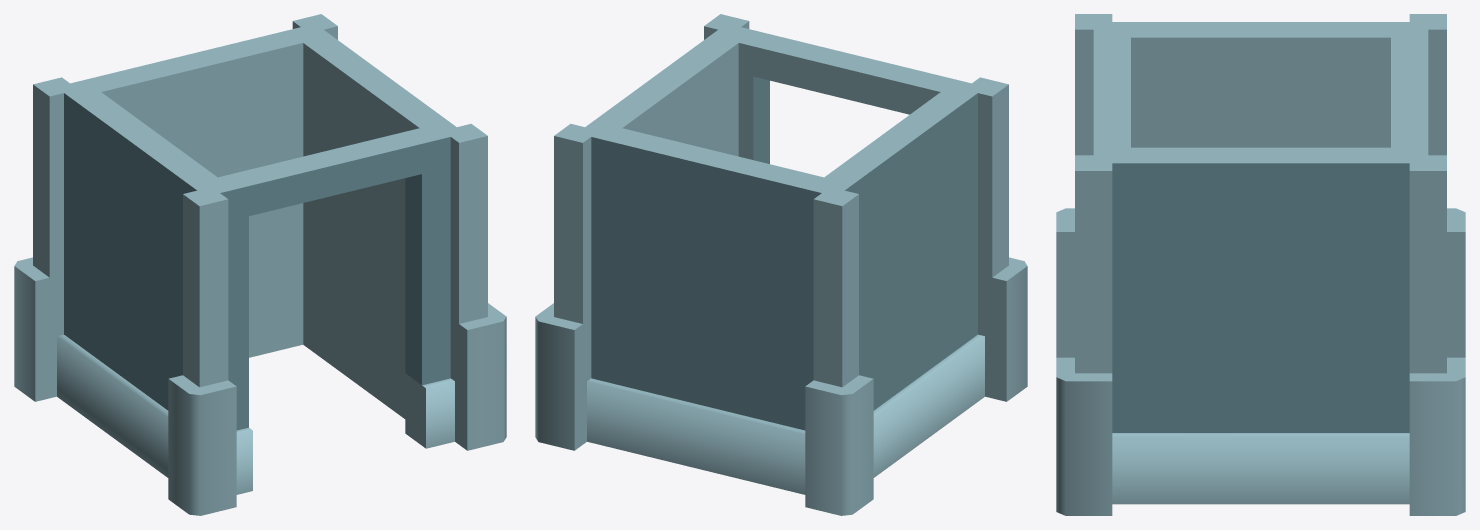
File: cryptSmall.obj
3 views of the same model, side by side, from view 1: azimuth 30°, elevation 25°; view 2: azimuth 150°, elevation 25°; view 3: azimuth 270°, elevation 25° (orthographic). The views are drawn at different scales.
Visible parts, largest first — view 1: cryptSmall; view 2: cryptSmall; view 3: cryptSmall.
Boxes of the visible parts, bbox=[...] form: cryptSmall: bbox=[14, 14, 506, 515]; cryptSmall: bbox=[535, 14, 1027, 515]; cryptSmall: bbox=[1056, 14, 1465, 515].
Size of the model in its own units: 1.1 by 1 by 1.1.
